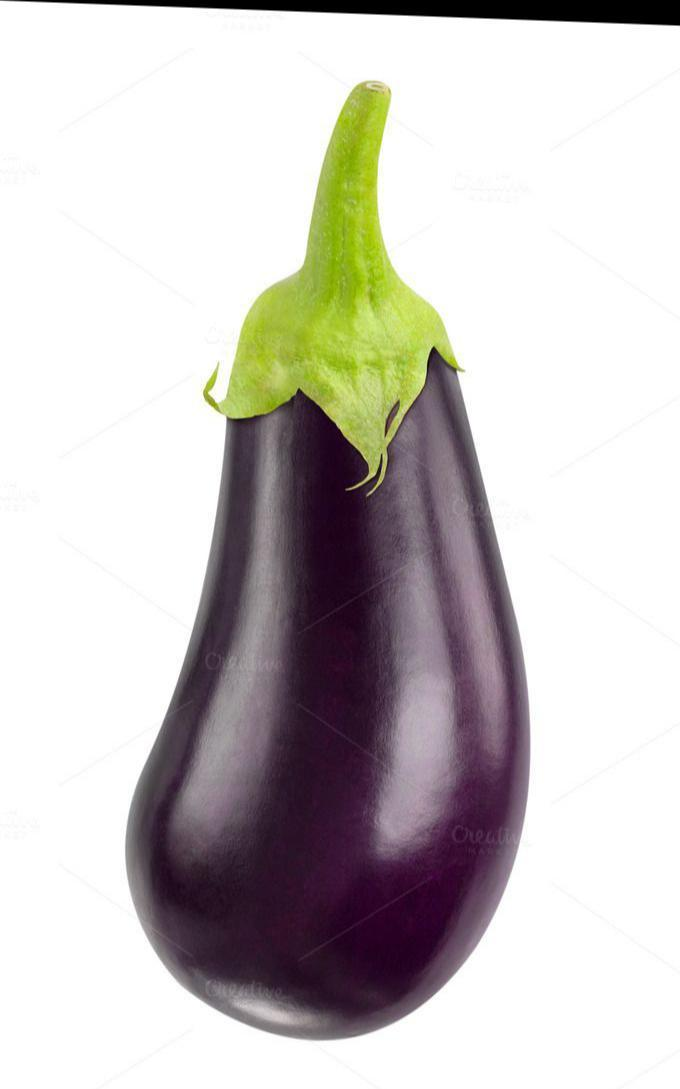eggplant: (131, 103, 542, 1042)
